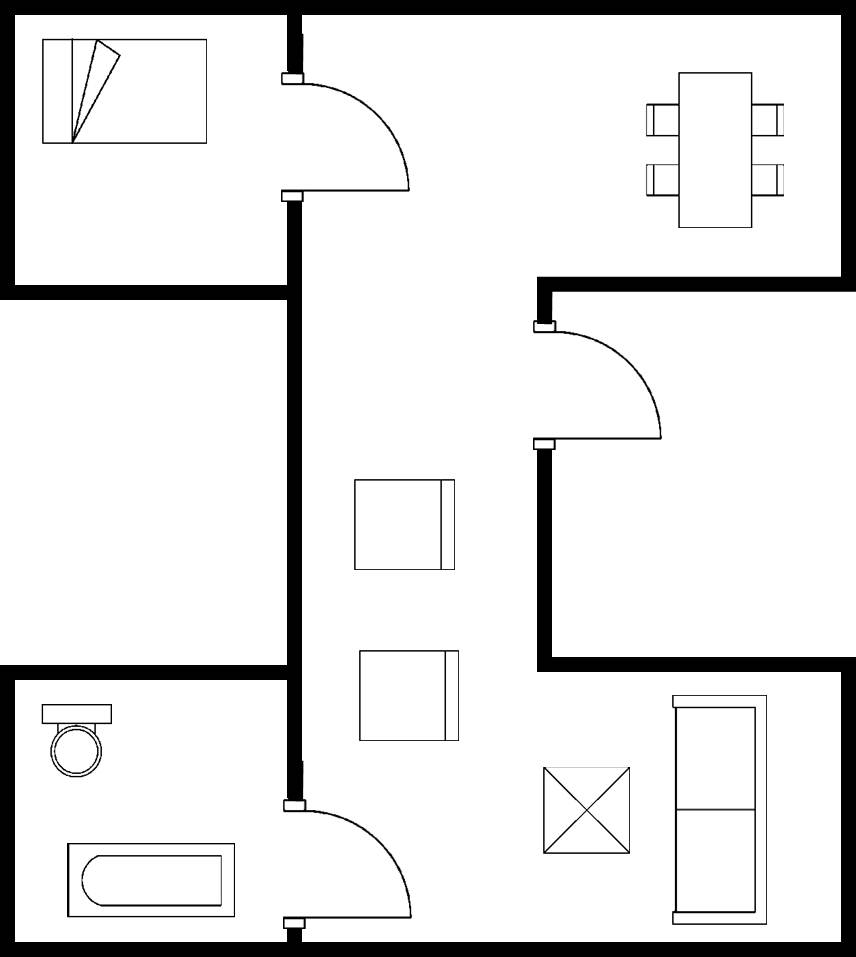bed: (34, 32, 214, 151)
coffee_table: (536, 757, 637, 861)
dining_table: (639, 63, 791, 237)
large_sink: (34, 698, 118, 782)
large_sofa: (662, 687, 774, 932)
small_sofa: (348, 642, 467, 750), (346, 471, 462, 577)
tub: (56, 836, 243, 926)
